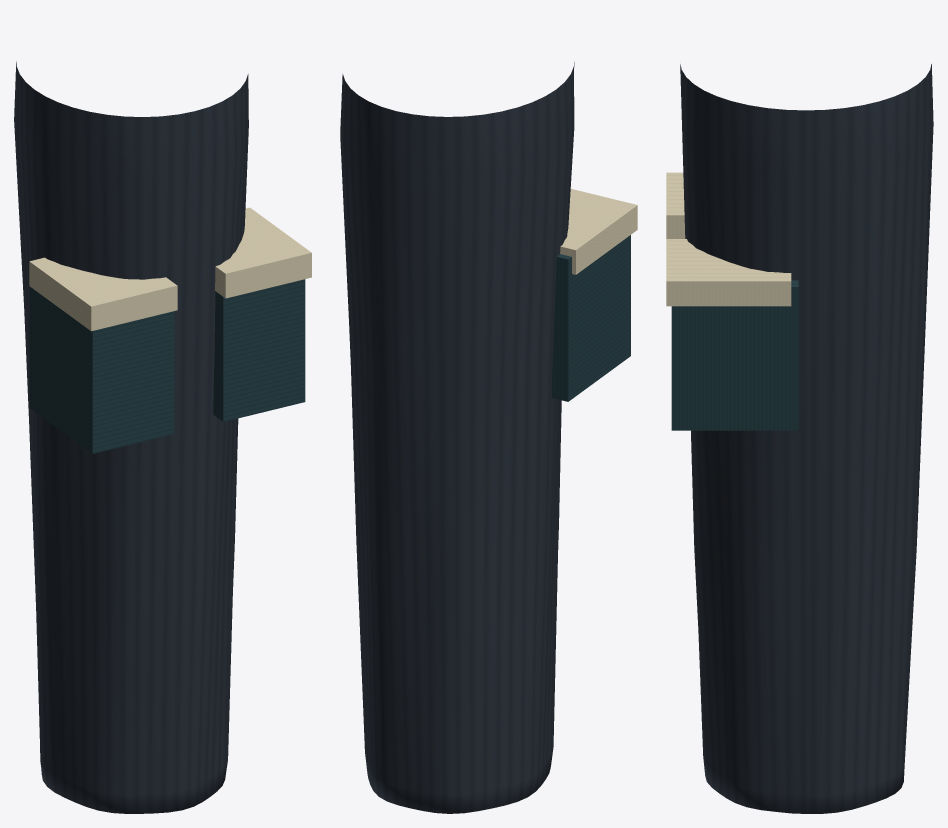
Rendered from reference_tech_pants.gltf.
3 views of the same model, side by side, from view 1: azimuth 30°, elevation 25°; view 2: azimuth 150°, elevation 25°; view 3: azimuth 270°, elevation 25° (orthographic).
Visible parts, largest first — view 1: LegL, LegR; view 2: LegL; view 3: LegL, LegR.
Boxes of the visible parts, bbox=[...] form: LegL: bbox=[14, 61, 248, 813]; LegR: bbox=[213, 207, 311, 421]; LegL: bbox=[340, 62, 637, 813]; LegL: bbox=[666, 64, 933, 813]; LegR: bbox=[666, 239, 798, 430].
Bounding box in the file's own units: 0.243 × 0.749 × 0.2527.
3 materials, 3 textured.
